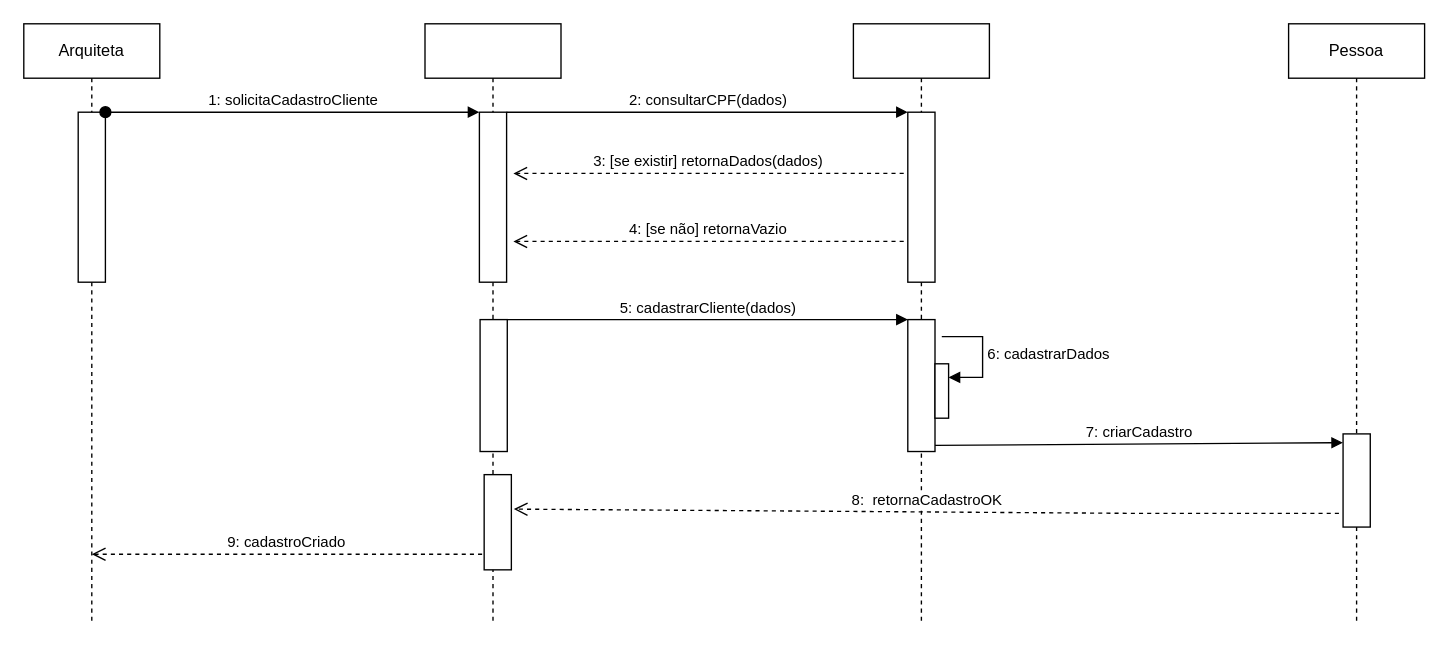
This 1448x646 diagram has some shape labels left out. Here are the shapes that lost their labels. From the top down, the box of each, then its label:
(424, 22, 561, 622): Sistema
(852, 22, 989, 622): Banco de Dados
